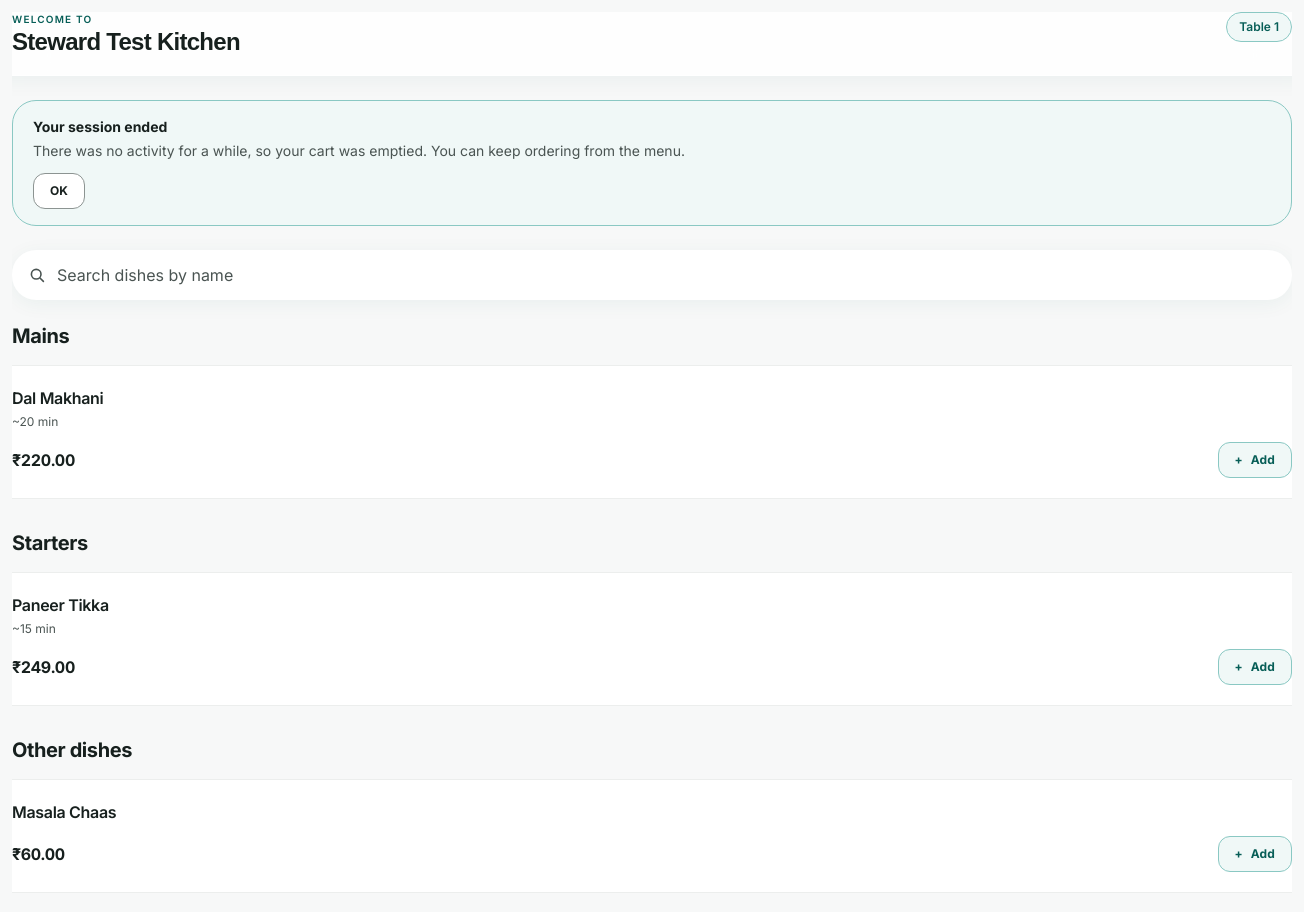
QR entry and the menu › when the session ended (401), says so and re-enters once with the same QR code
The width and height of the screenshot is (1304, 912).
Expected: the message "Your session ended" shows "your cart was emptied", 33,142 -> 685,159
Click the button "OK" at (59, 191), box 33,173 -> 85,209
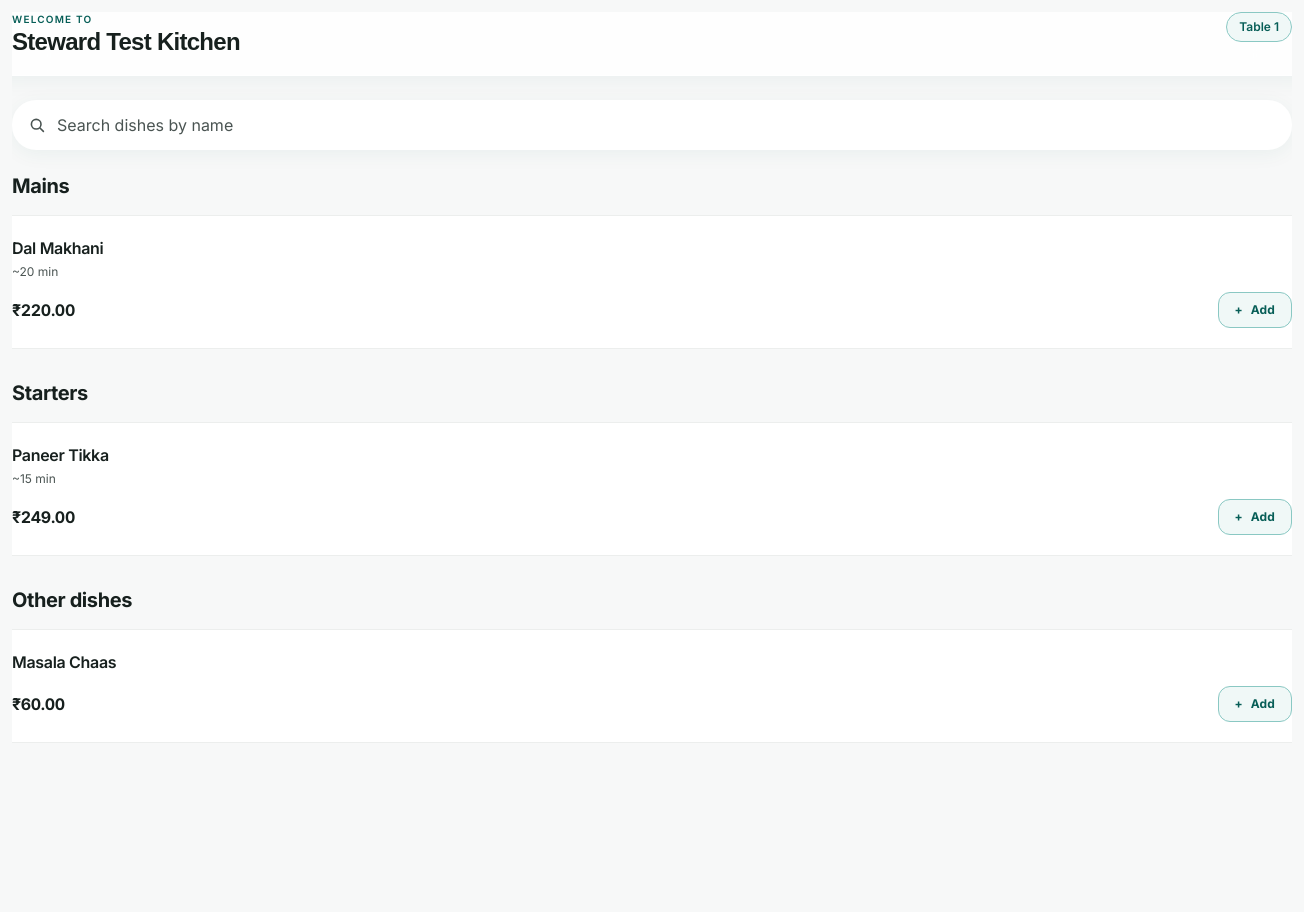
Expected: the heading "Your session ended" is gone
